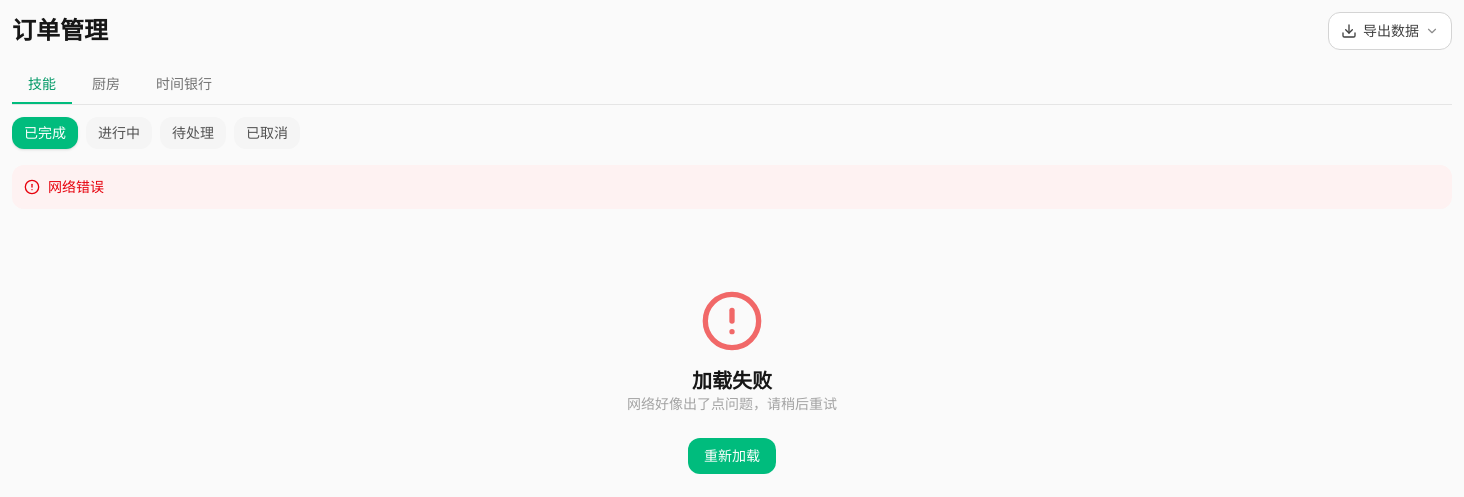
Test: OrderManagement 强制取消订单弹窗 › 加载失败显示"重新加载"重试按钮，点击后重新触发请求
This screenshot has width=1464, height=497.
Click the button "重新加载".
click(732, 456)  # box [688,438,776,474]
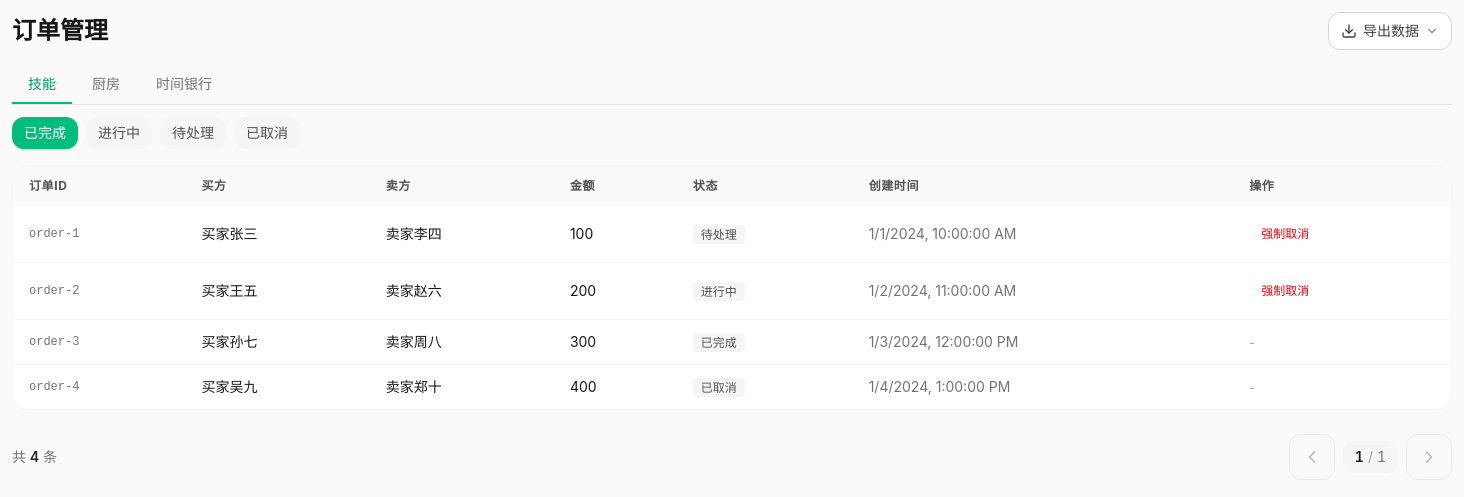
expect the text "买家张三" is shown: met, box [186,206,370,262]
